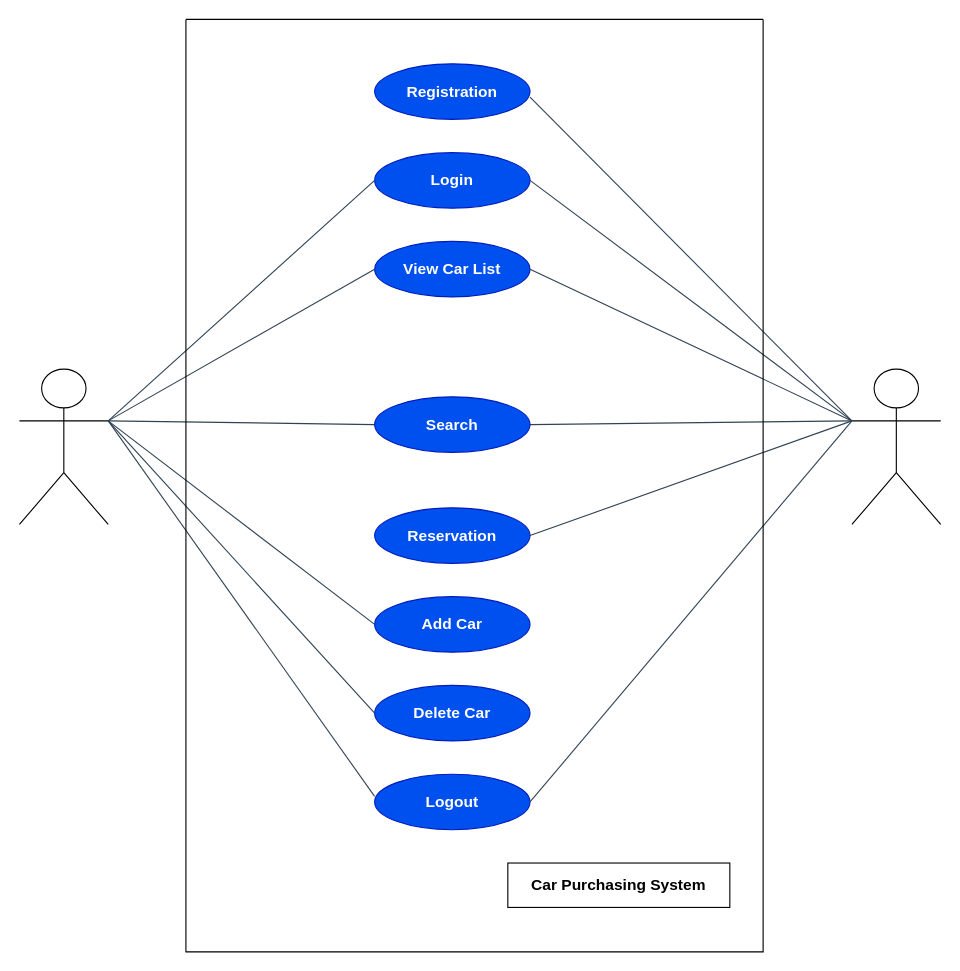
The diagram is 960 pixels wide and 971 high, and some of its shapes have lost their labels. The shapes that lost their labels are listed below. From the top down, each one's centre as x and y in pixels, then its label:
At point (63, 446): "Admin".
At point (896, 446): "User".
